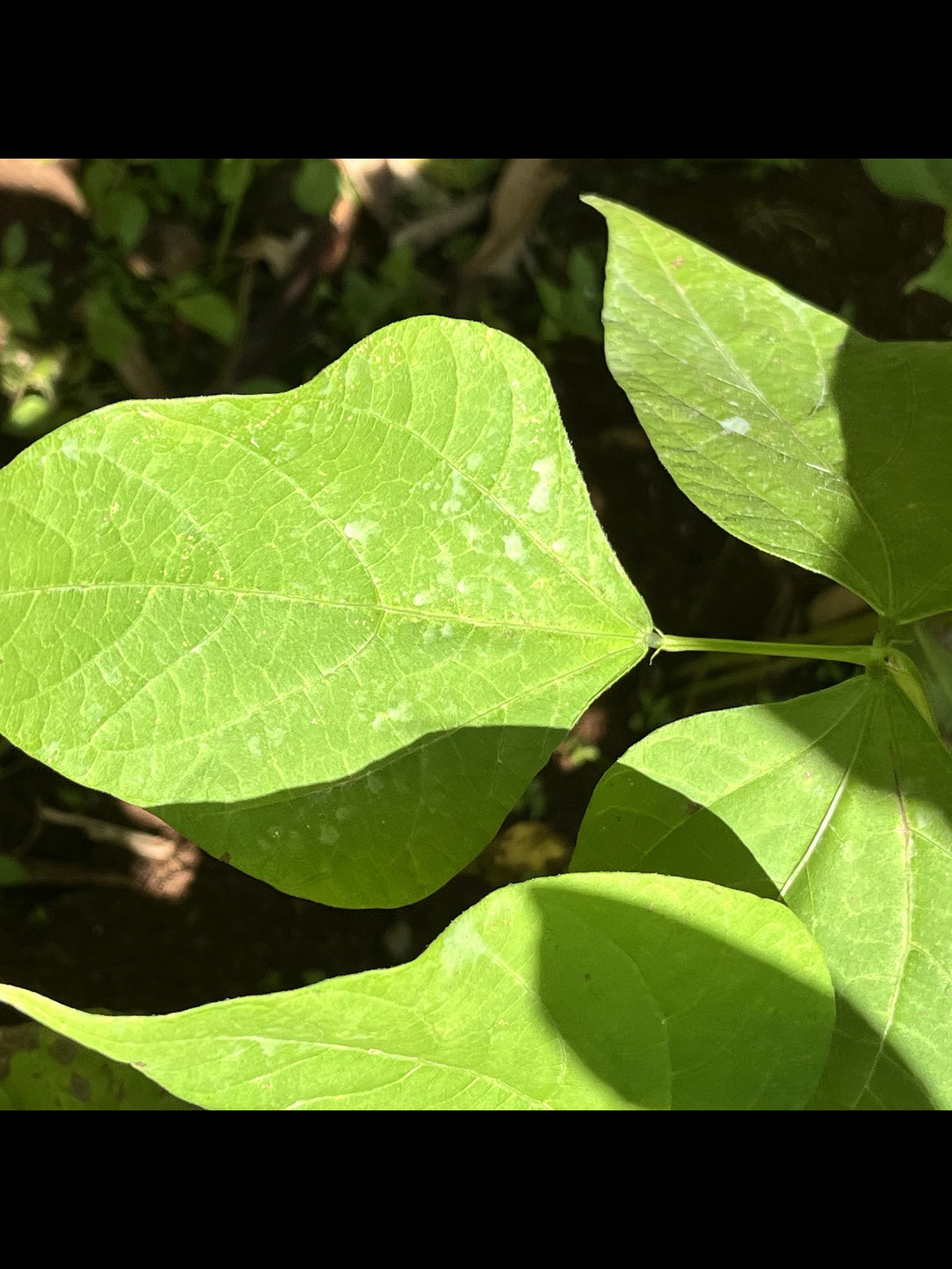embun tepung: (499, 434, 578, 560)
